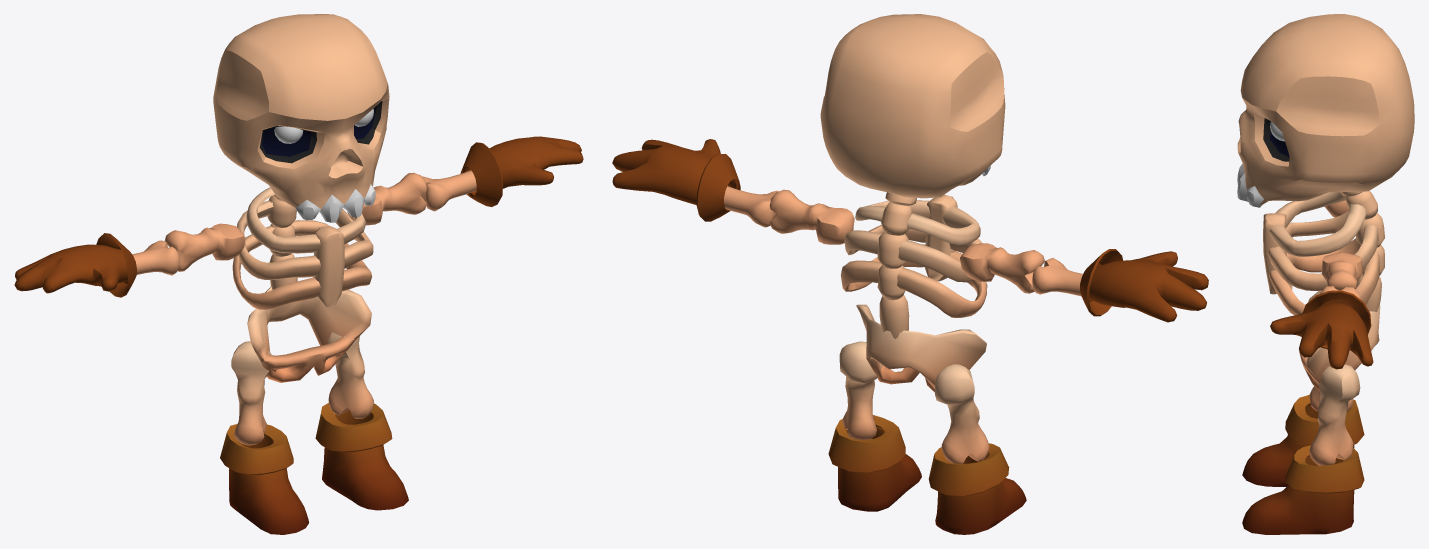
The model's file is Skeleton.fbx.
The picture shows the model from 3 angles, left to right: view 1: azimuth 30°, elevation 25°; view 2: azimuth 150°, elevation 25°; view 3: azimuth 270°, elevation 25°; orthographic projection. The views are drawn at different scales.
Parts seen in each view (by area): view 1: Skeleton.002; view 2: Skeleton.002; view 3: Skeleton.002.
Boxes of the visible parts, x1,y1,x2,y2 form: Skeleton.002: (14, 14, 583, 534); Skeleton.002: (612, 14, 1208, 534); Skeleton.002: (1237, 14, 1414, 534).
Bounding box in the file's own units: 191 × 150 × 51.12.
